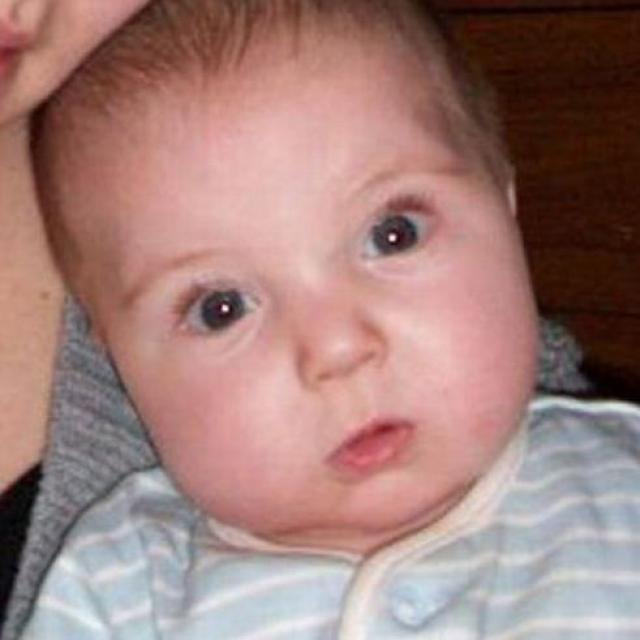surprised: (80, 49, 536, 541)
